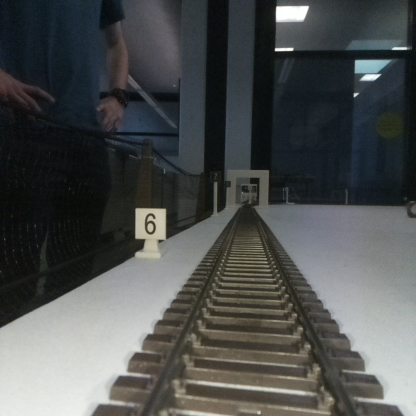black-info-7: (211, 169, 220, 216)
white-stop-6: (135, 208, 165, 257)
